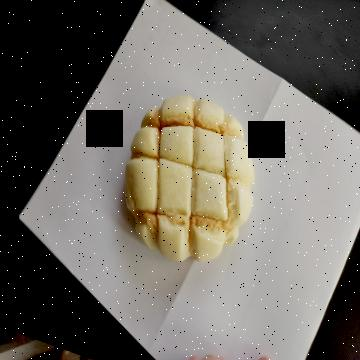melon_bread: (125, 96, 256, 261)
